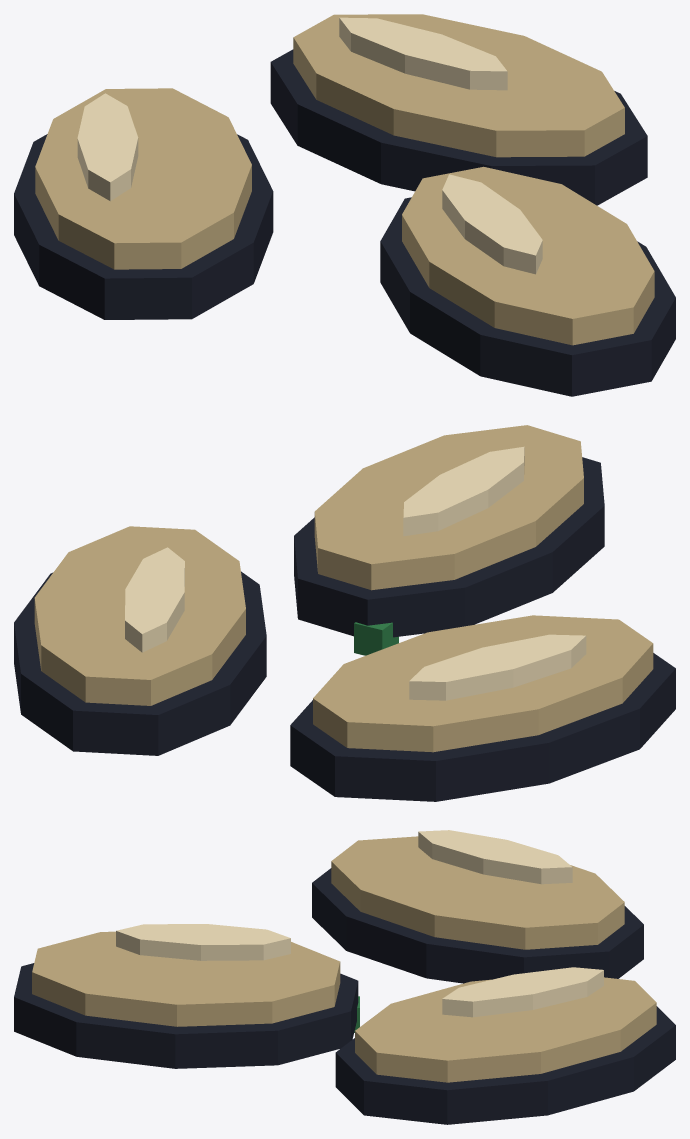
The model's file is pumpkin_seeds.fbx.
3 views of the same model, one above another, from view 1: azimuth 30°, elevation 25°; view 2: azimuth 150°, elevation 25°; view 3: azimuth 270°, elevation 25° (orthographic). The views are drawn at different scales.
Visible parts, largest first — view 1: pumpkin_seeds__Icon; view 2: pumpkin_seeds__Icon, pumpkin_seeds__Origin; view 3: pumpkin_seeds__Icon.
Part boxes in pixels (x1,y1,x2,y2): pumpkin_seeds__Icon: (14,14,675,396); pumpkin_seeds__Icon: (14,425,675,801); pumpkin_seeds__Origin: (354,622,398,655); pumpkin_seeds__Icon: (14,830,675,1124).
Bounding box in the file's own units: 0.818 × 0.145 × 0.9527.
1 material, 1 textured.
